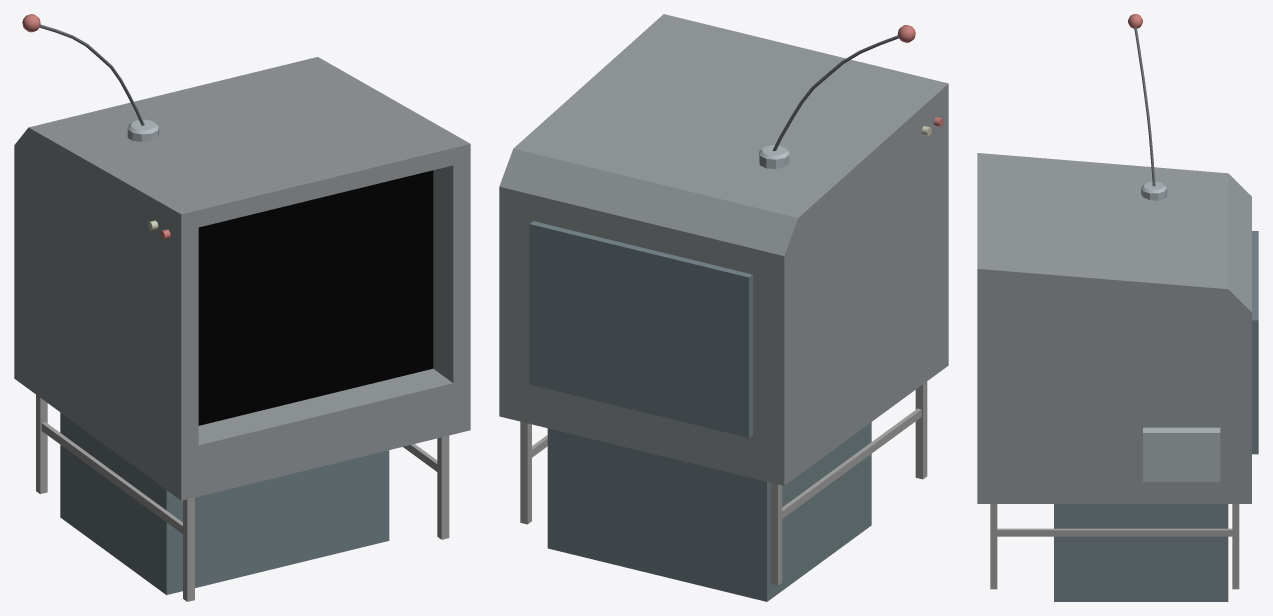
The model's file is Package Tube floor .fbx.
3 renders of one model, left to right at view 1: azimuth 30°, elevation 25°; view 2: azimuth 150°, elevation 25°; view 3: azimuth 270°, elevation 25°, orthographic. The views are drawn at different scales.
Parts seen in each view (by area): view 1: pSphere138; view 2: pSphere138; view 3: pSphere138.
Boxes of the visible parts, box(x1,y1,x2,y2) form: pSphere138: box(14, 14, 470, 601); pSphere138: box(499, 14, 948, 601); pSphere138: box(977, 14, 1258, 601).
Bounding box in the file's own units: 1.26 × 1.86 × 1.02.
